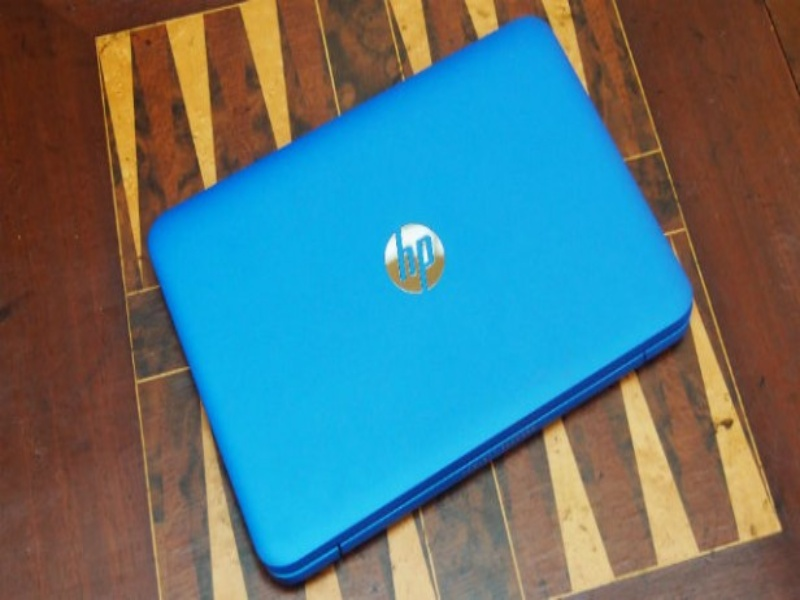hp: (388, 227, 443, 291)
